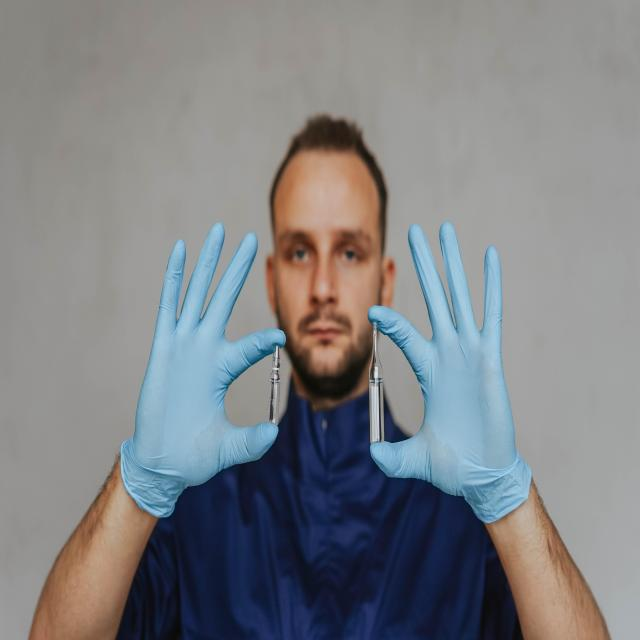Gloves: (365, 220, 540, 519), (118, 217, 286, 519)
